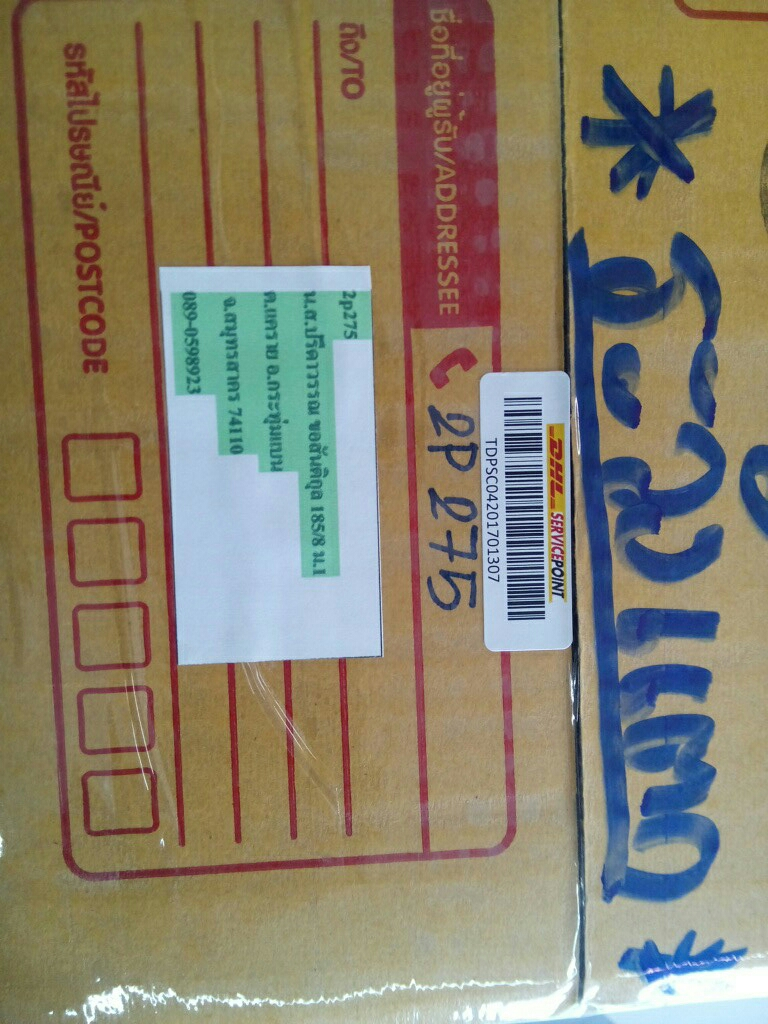ba: (474, 367, 586, 663)
txt: (173, 281, 371, 583)
